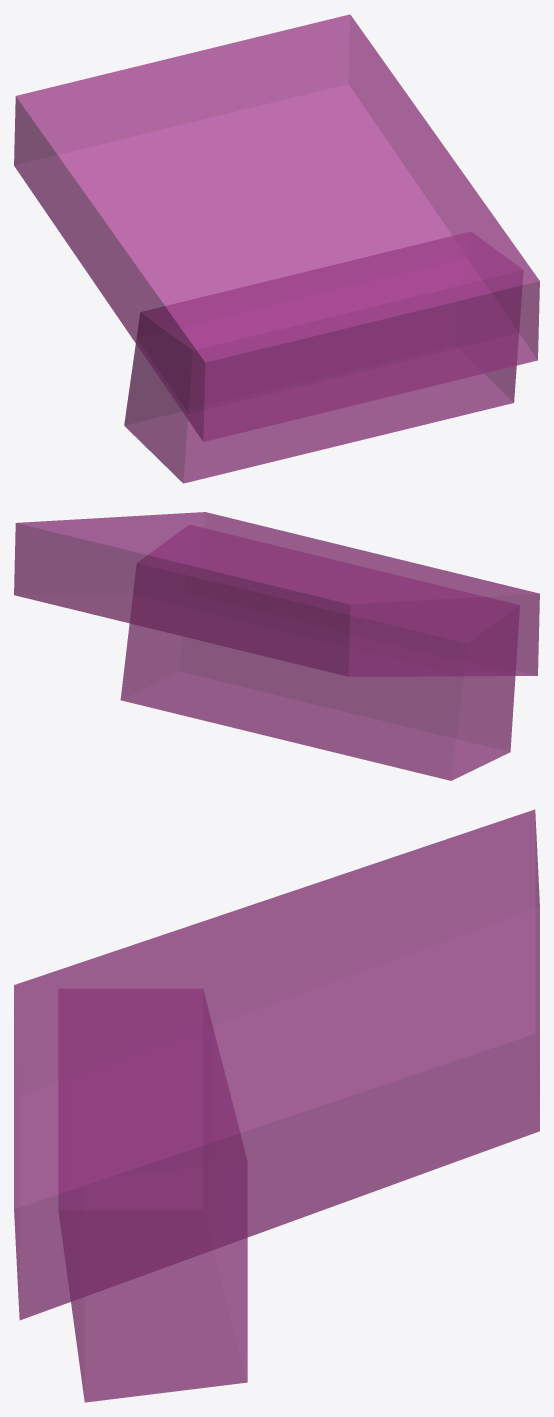
Rendered from SM_Bld_Roof_Edge_Small_Half_01_Collision_01.fbx.
3 renders of one model, top to bottom at view 1: azimuth 30°, elevation 25°; view 2: azimuth 150°, elevation 25°; view 3: azimuth 270°, elevation 25°, orthographic. The views are drawn at different scales.
Parts seen in each view (by area): view 1: SM_Bld_Roof_Edge_Small_Half_01_Collision_01; view 2: SM_Bld_Roof_Edge_Small_Half_01_Collision_01; view 3: SM_Bld_Roof_Edge_Small_Half_01_Collision_01.
Part boxes in pixels (box(x1,y1,x2,y2)): SM_Bld_Roof_Edge_Small_Half_01_Collision_01: box(14, 14, 539, 483); SM_Bld_Roof_Edge_Small_Half_01_Collision_01: box(14, 512, 539, 780); SM_Bld_Roof_Edge_Small_Half_01_Collision_01: box(14, 809, 539, 1402).
Bounding box in the file's own units: 130 × 99.7 × 129.
